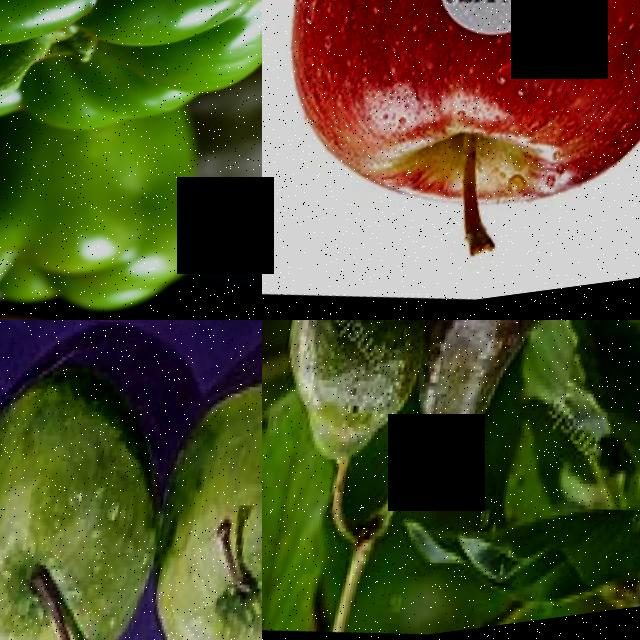apple: (262, 0, 640, 297), (0, 345, 185, 640), (137, 363, 262, 640), (73, 370, 76, 379)
avocado: (262, 320, 445, 492), (408, 320, 570, 476)
bell pepper: (0, 83, 218, 320), (0, 0, 262, 182)
